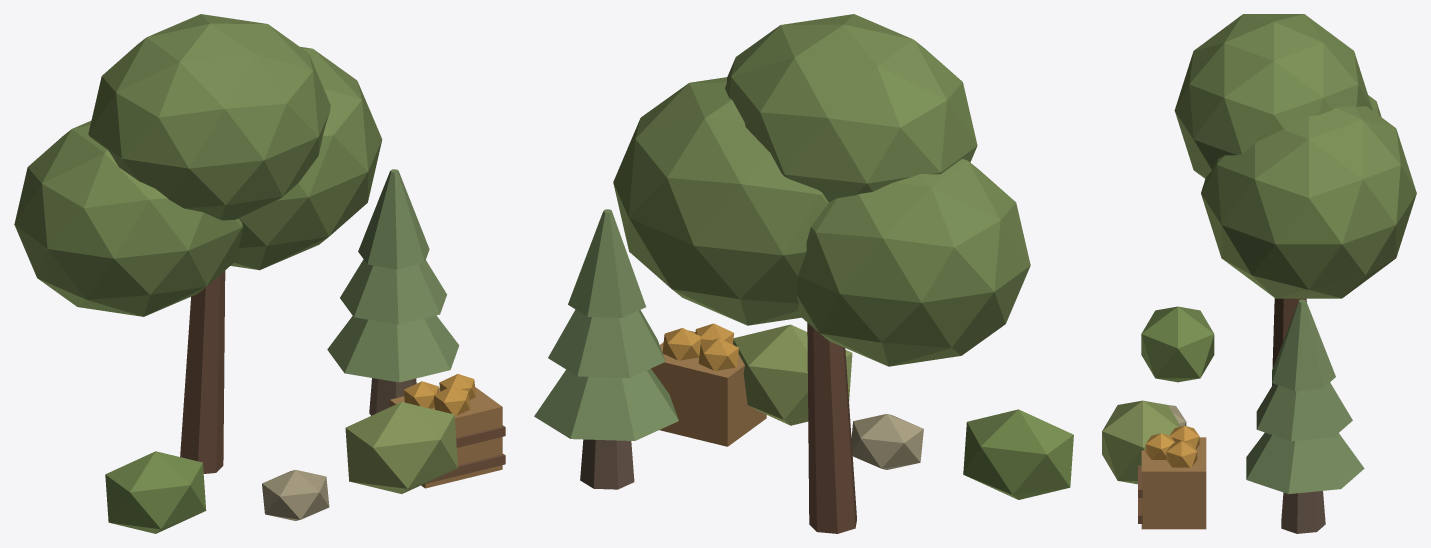
The model's file is xingyin-environment-v2__farm_orchard_group.glb.
3 views of the same model, side by side, from view 1: azimuth 30°, elevation 25°; view 2: azimuth 150°, elevation 25°; view 3: azimuth 270°, elevation 25° (orthographic). The views are drawn at different scales.
Visible parts, largest first — view 1: farm_orchard_group; view 2: farm_orchard_group; view 3: farm_orchard_group.
Boxes of the visible parts, x1,y1,x2,y2 form: farm_orchard_group: [14, 14, 505, 533]; farm_orchard_group: [534, 14, 1073, 533]; farm_orchard_group: [1102, 14, 1416, 533].
Bounding box in the file's own units: 3.45 × 3.56 × 2.43.
